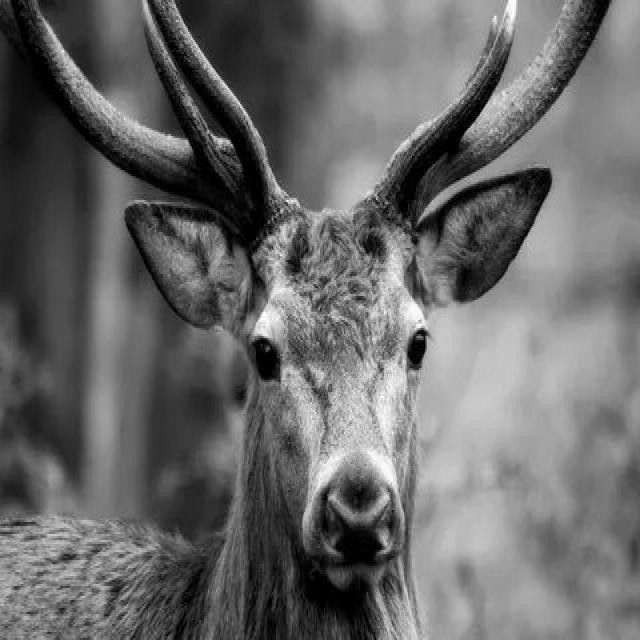Deer: (101, 6, 544, 582)
